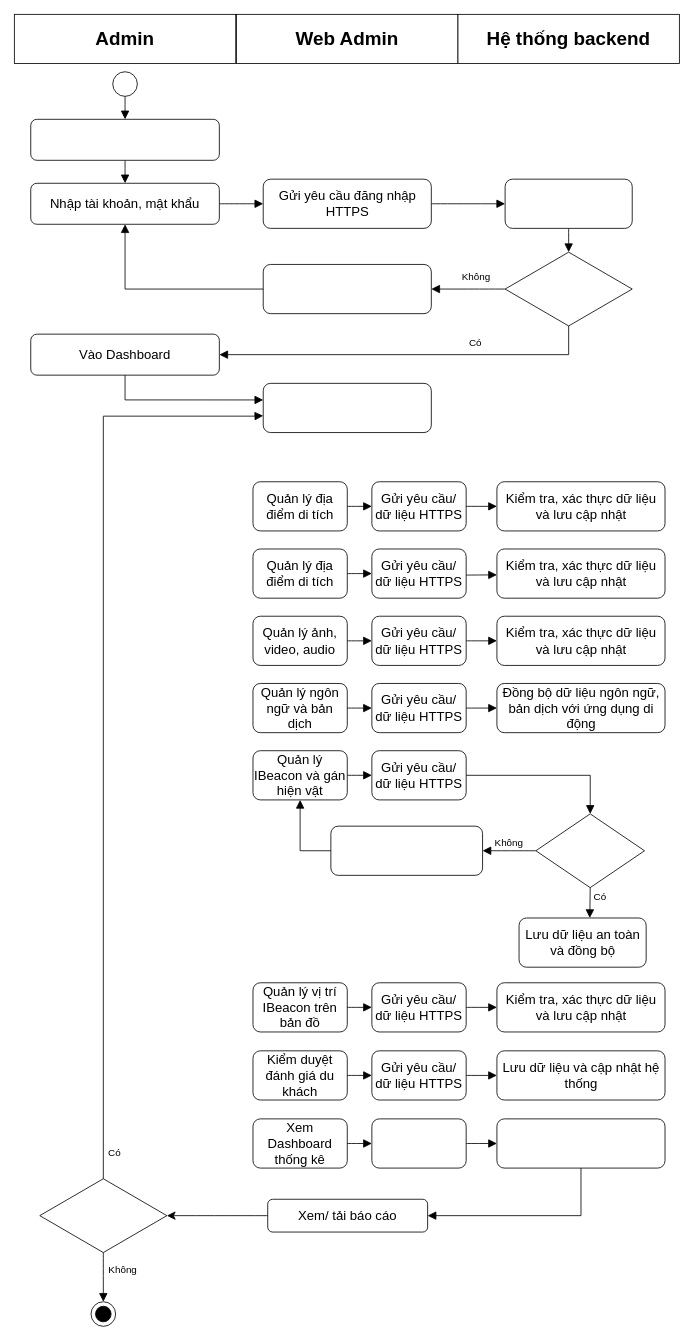
The diagram is 694 pixels wide and 1341 high, and some of its shapes have lost their labels. Here are the shapes that lost their labels. From the top down, the centre of each, then its label:
At (x=124, y=139): "Mở trang quản trị".
At (x=568, y=203): "Xác thực tài khoản và quyền Admin".
At (x=346, y=289): "Thông báo lỗi, nhập lại".
At (x=568, y=288): "Thông tin hợp lệ?".
At (x=346, y=408): "Chọn chức năng quản lý".
At (x=406, y=850): "Thông báo lỗi xác thực và quay lại chỉnh sửa".
At (x=590, y=850): "Dữ liệu hợp lệ?".
At (x=418, y=1143): "Chọn xuất báo cáo PDF/Excel".
At (x=580, y=1143): "Tổng hợp dữ liệu, tạo báo cáo".
At (x=103, y=1215): "Tiếp tục quản trị ?".
